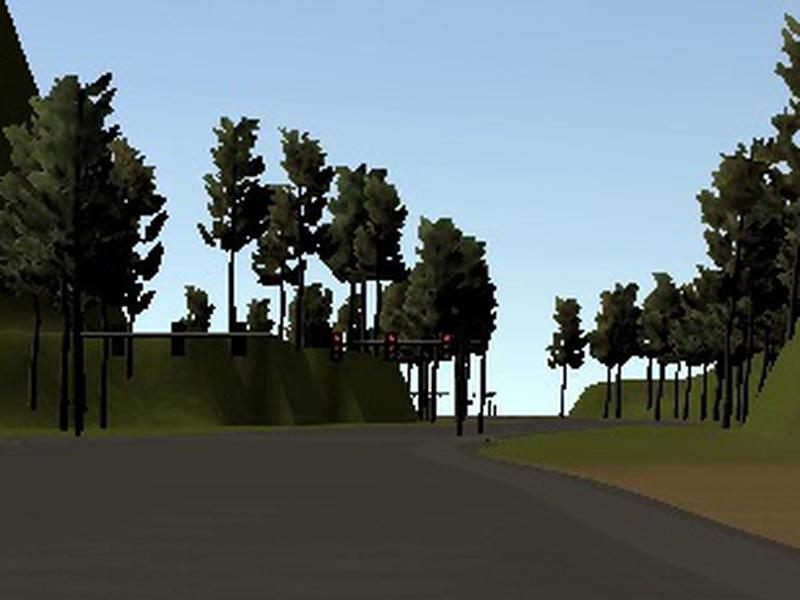Red: (330, 332, 344, 362), (385, 333, 399, 362), (438, 333, 451, 361)
